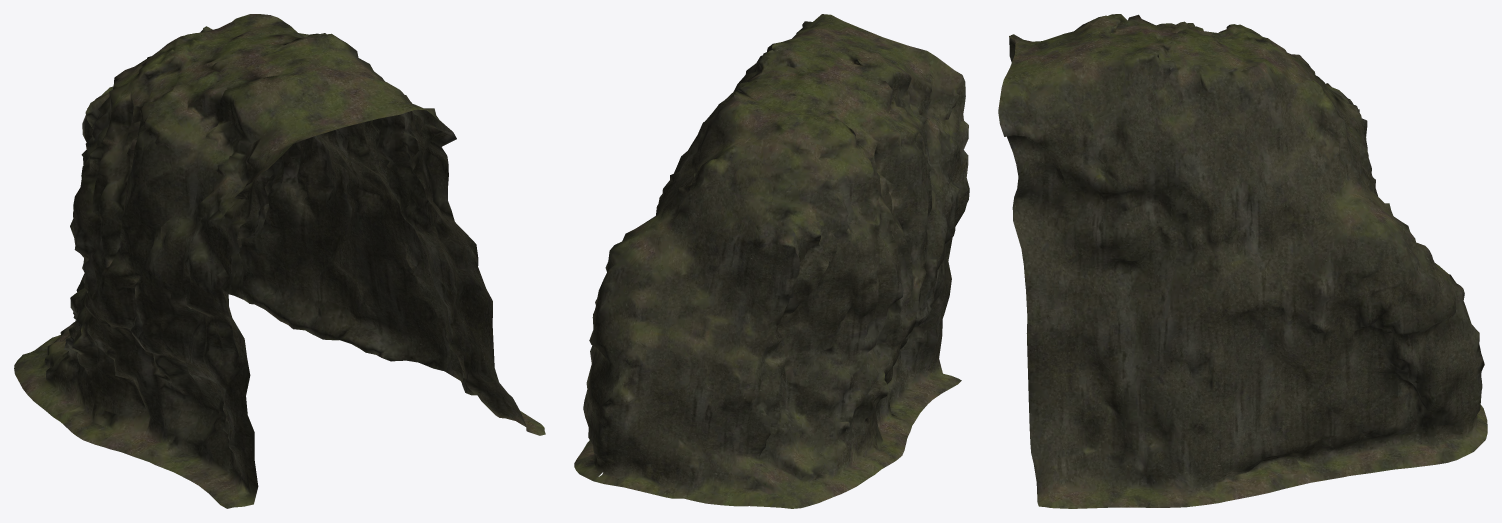
Rendered from cliff_rock.glb.
3 views of the same model, side by side, from view 1: azimuth 30°, elevation 25°; view 2: azimuth 150°, elevation 25°; view 3: azimuth 270°, elevation 25° (orthographic). The views are drawn at different scales.
Parts seen in each view (by area): view 1: Cliff_Rock; view 2: Cliff_Rock; view 3: Cliff_Rock.
Part boxes in pixels (x1,y1,x2,y2): Cliff_Rock: (14,14,545,508); Cliff_Rock: (574,14,969,508); Cliff_Rock: (998,14,1487,508).
Size of the model in its own units: 85.24 by 87.95 by 103.
Materials: 1 (1 with a texture image).
